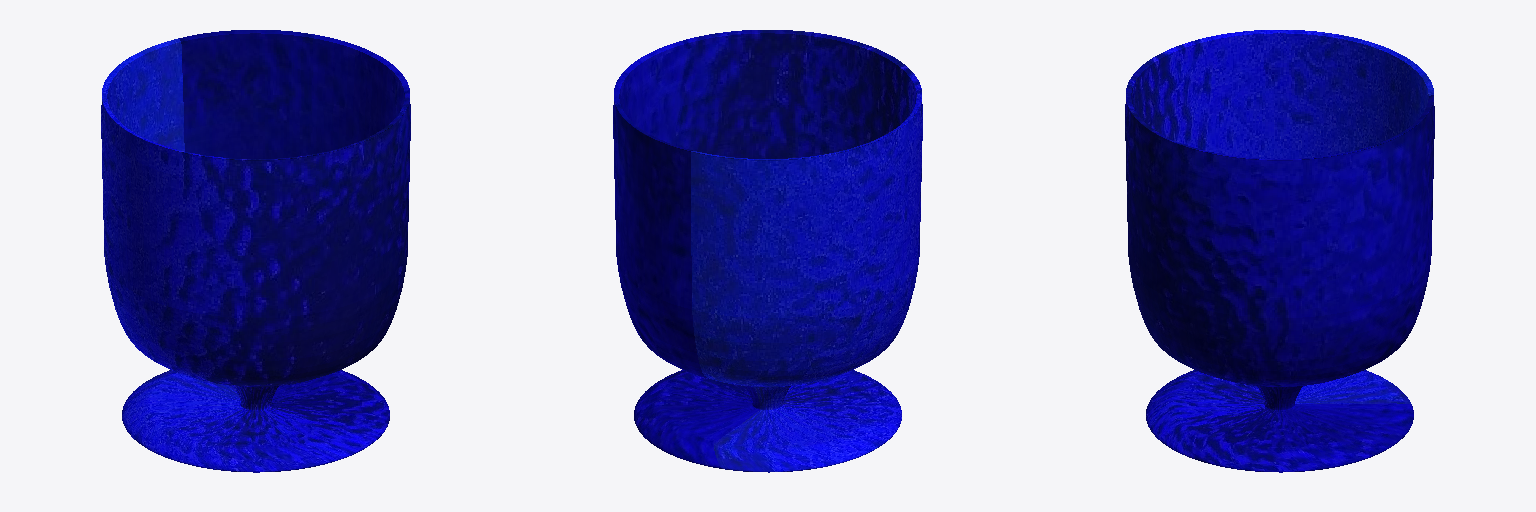
3 renders of one model, left to right at view 1: azimuth 30°, elevation 25°; view 2: azimuth 150°, elevation 25°; view 3: azimuth 270°, elevation 25°, orthographic.
Visible parts, largest first — view 1: Lathe; view 2: Lathe; view 3: Lathe.
Boxes of the visible parts, x1,y1,x2,y2 form: Lathe: [101, 30, 410, 472]; Lathe: [613, 30, 922, 472]; Lathe: [1125, 30, 1434, 472].
Size of the model in its own units: 24.83 by 28.49 by 24.83.
Materials: 1 (1 with a texture image).